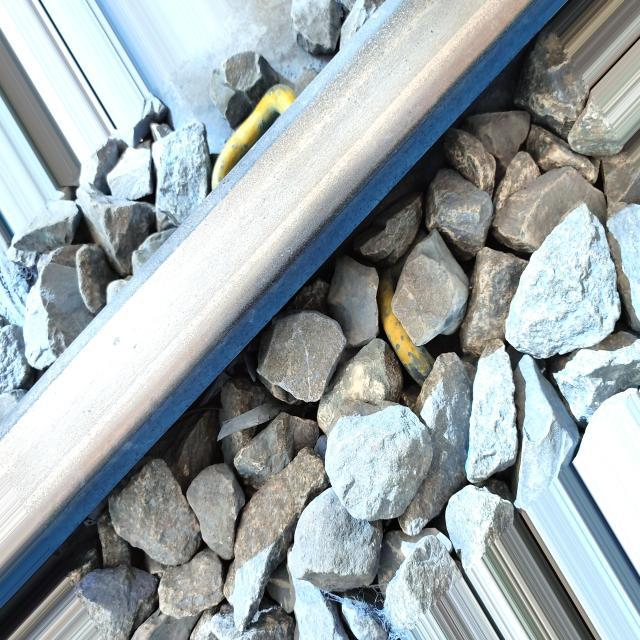Good Fasteners: (212, 85, 297, 190), (378, 270, 434, 388)
